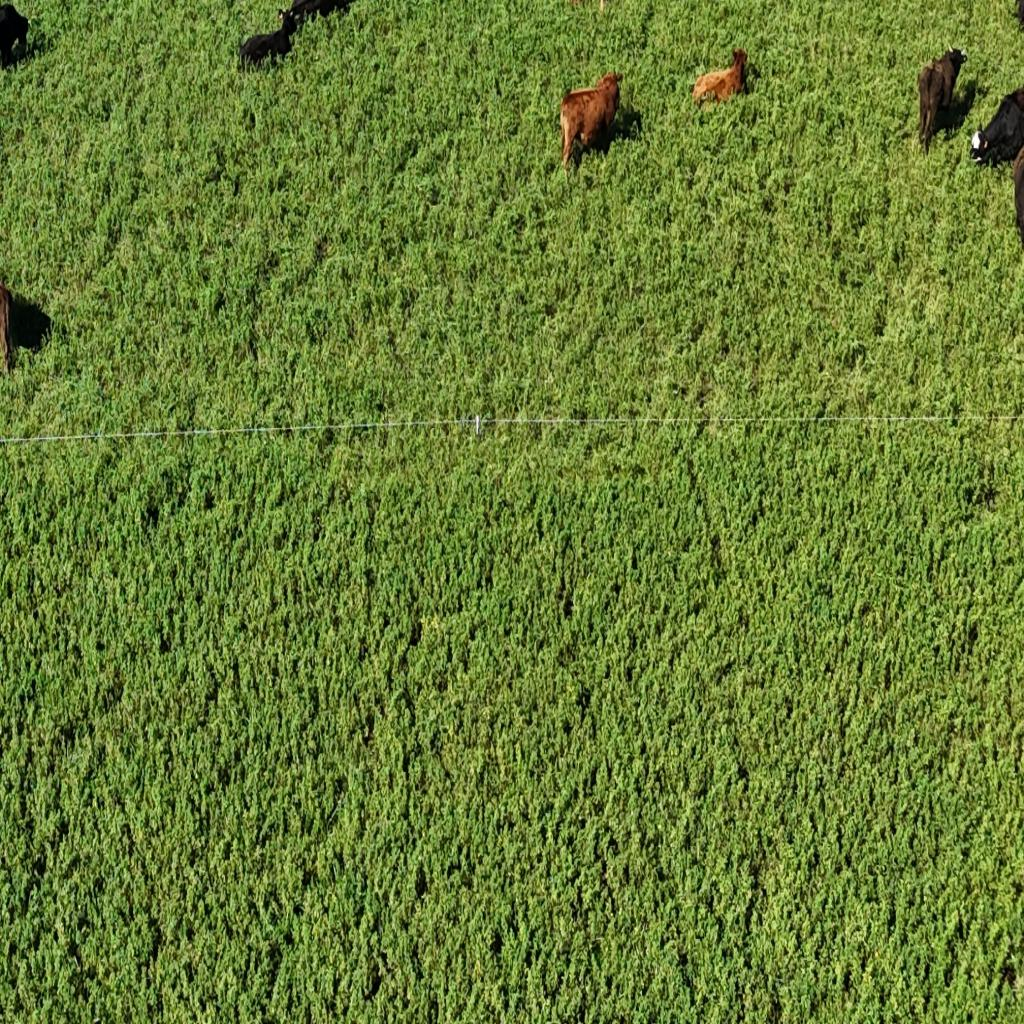cow: (558, 71, 624, 183), (916, 46, 967, 154), (0, 275, 53, 377), (968, 84, 1024, 171), (236, 10, 297, 73), (691, 48, 748, 107), (0, 0, 34, 70)
